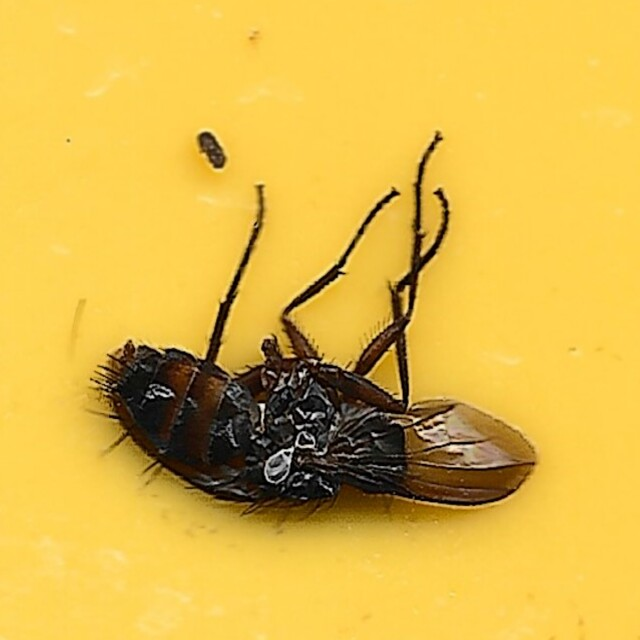Brachycera: (100, 121, 540, 519)
